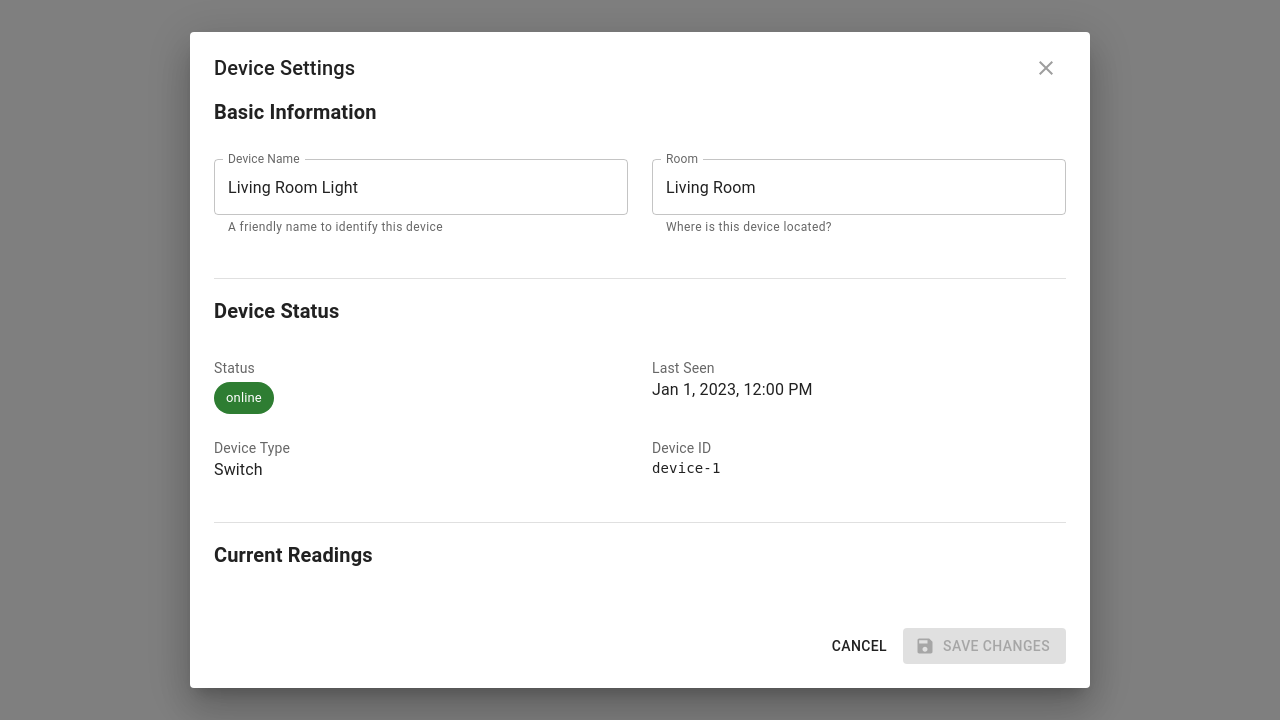
Test: DeviceSettingsDialog › enables save button when changes are made
This screenshot has width=1280, height=720.
Check: the button "Save Changes" is disabled, box [903, 628, 1066, 664]
Replace the text in the field showing "Living Room Light" with "New Name": (421, 187) [214, 159, 628, 215]
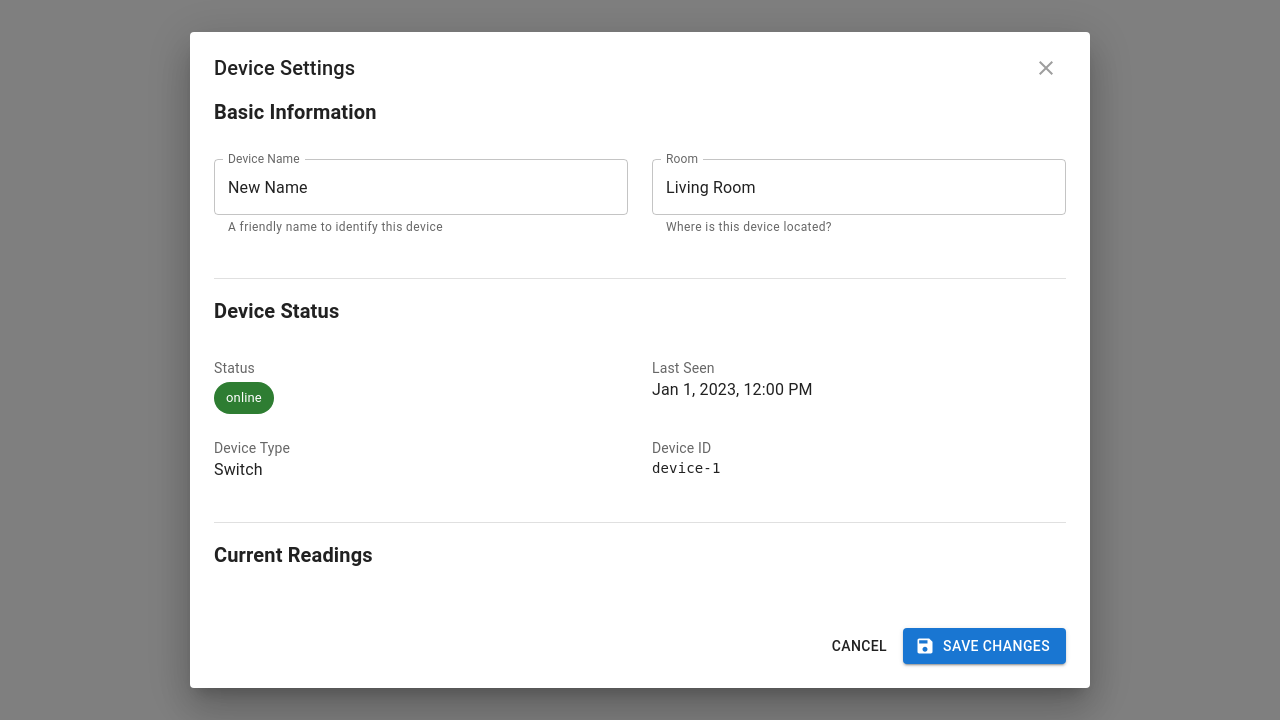
Check: the button "Save Changes" is enabled, box [903, 628, 1066, 664]
